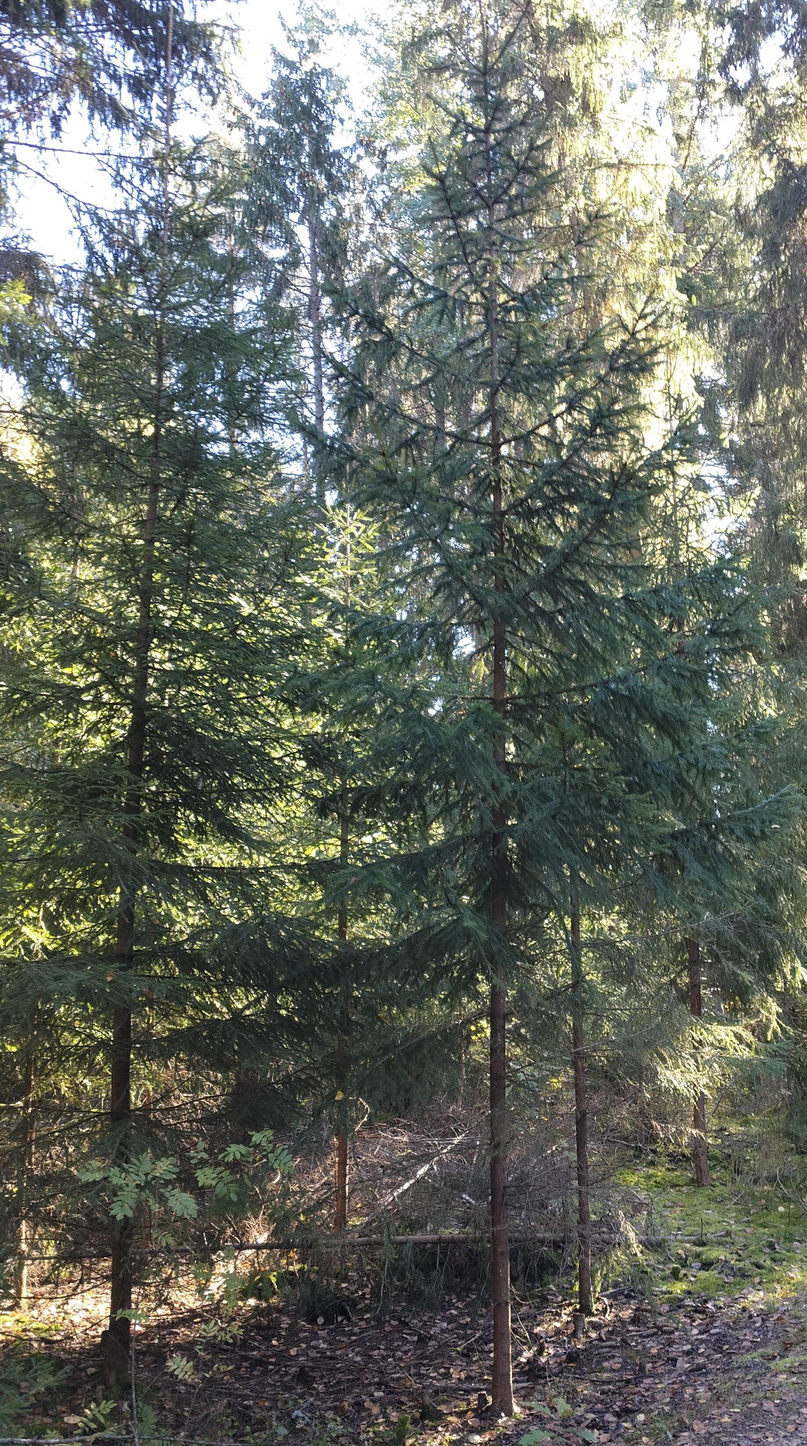Spruce: (315, 0, 649, 1377), (0, 160, 326, 1386)
